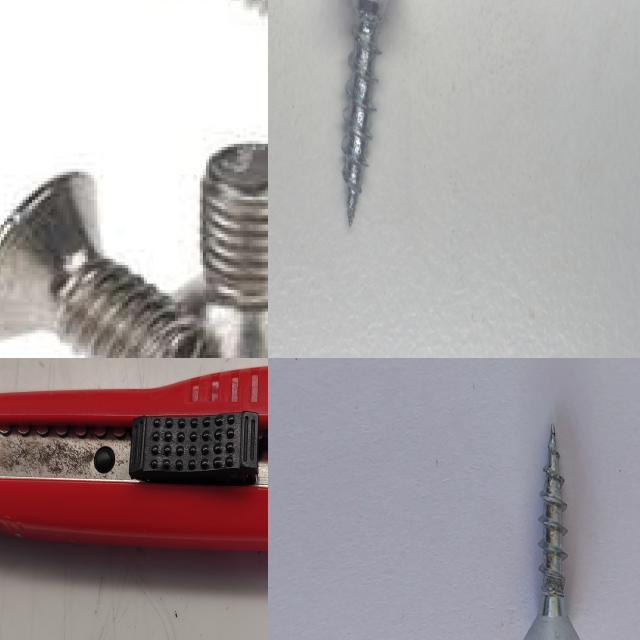Screw: (0, 172, 203, 358), (524, 423, 580, 640), (341, 0, 388, 224)
